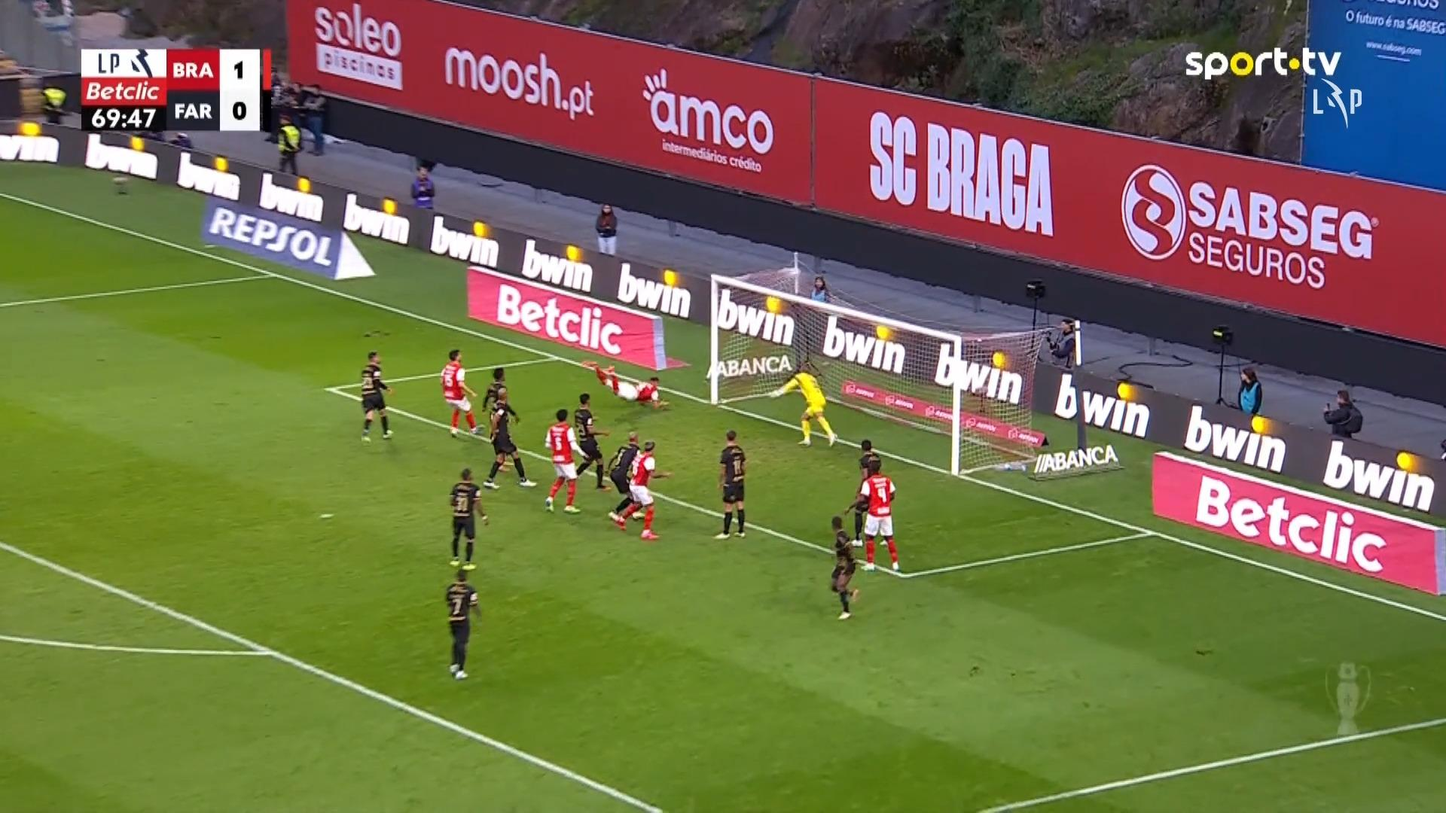goalkeeper: (767, 358, 838, 447)
player: (849, 456, 900, 571), (481, 394, 538, 489), (622, 439, 672, 539), (543, 408, 588, 513), (447, 467, 489, 570), (586, 360, 670, 411), (444, 568, 481, 680), (440, 348, 484, 437), (845, 438, 880, 547), (713, 429, 747, 539), (572, 392, 610, 490), (606, 430, 643, 526), (358, 350, 394, 443), (829, 515, 859, 620), (480, 366, 509, 435)
